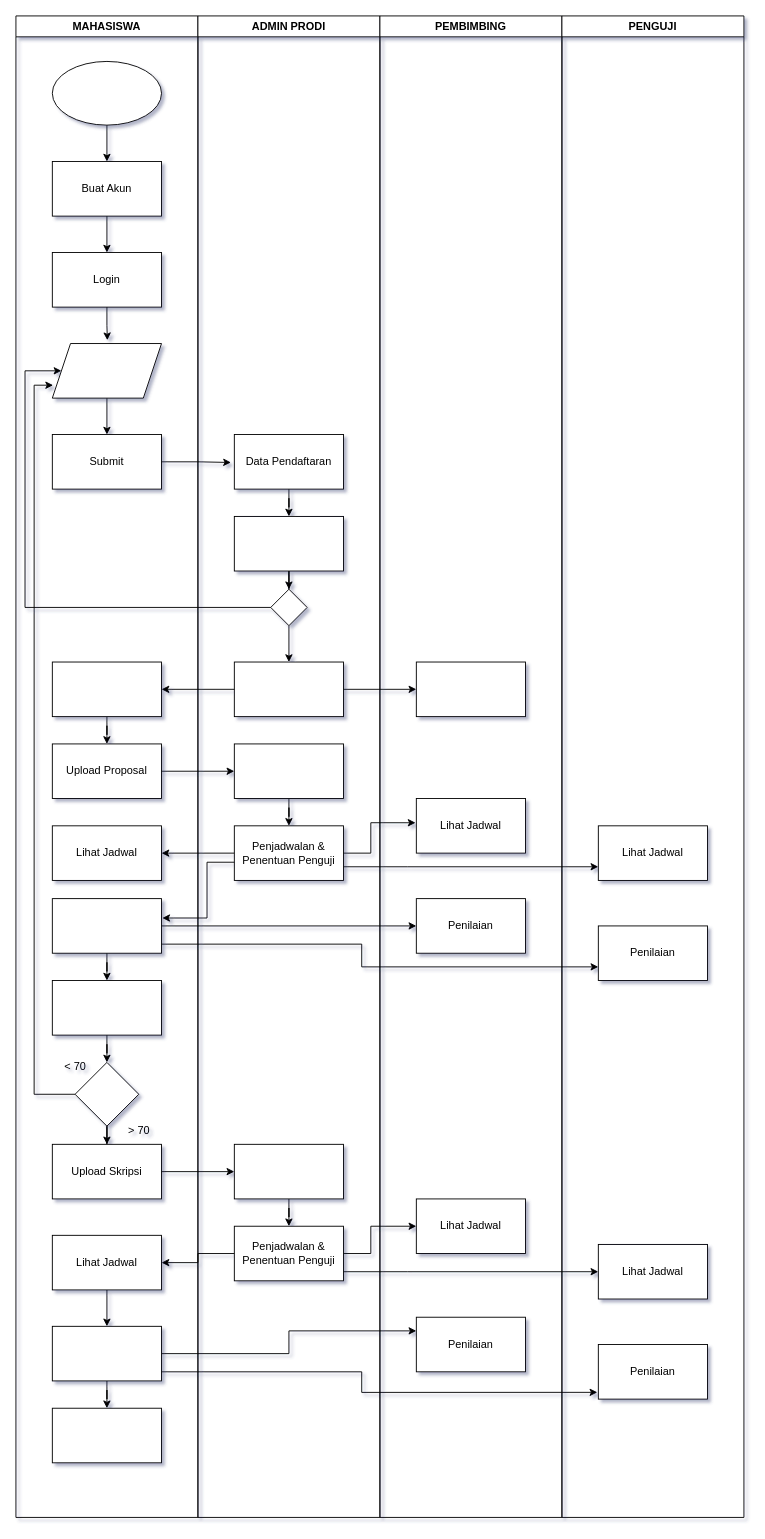
This 765x1539 diagram has some shape labels left out. The centre of each missing label's shape, as x and y in pixels:
Cek Data Pendaftaran: the point at 288,543
Form Pendaftaran: the point at 106,370
Lihat Bimbingan: the point at 470,689
Lihat Dosen Pembimbing: the point at 106,689
Lihat Proposal Skripsi: the point at 288,771
Lihat Skripsi: the point at 288,1171
Melihat Nilai: the point at 106,1435
Penentuan Pembimbing: the point at 288,689
Proses Nilai: the point at 106,1007
Sempro: the point at 106,925
Sidang Skripsi: the point at 106,1353
START: the point at 106,93
